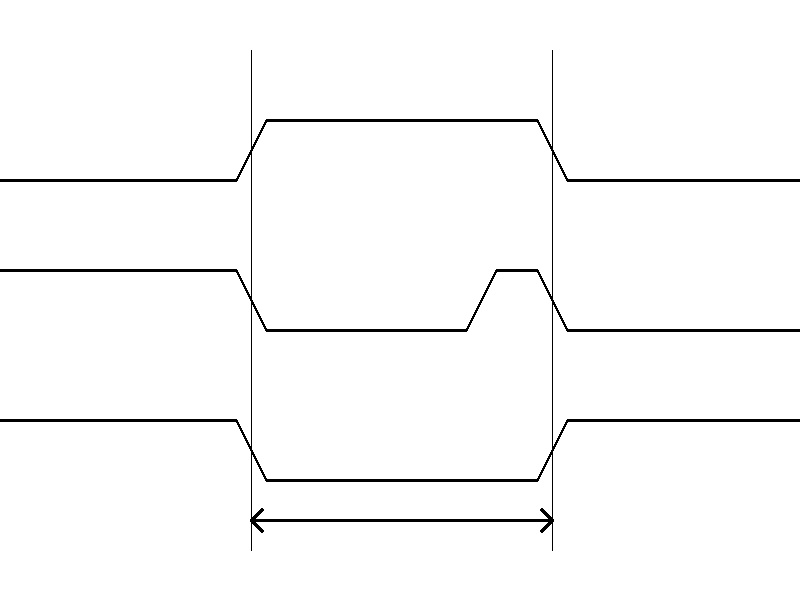double_arrow: (251, 505, 552, 535)
